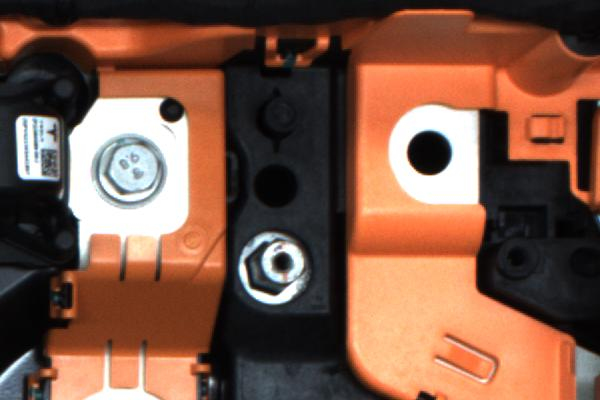nut_b: (90, 138, 180, 206)
